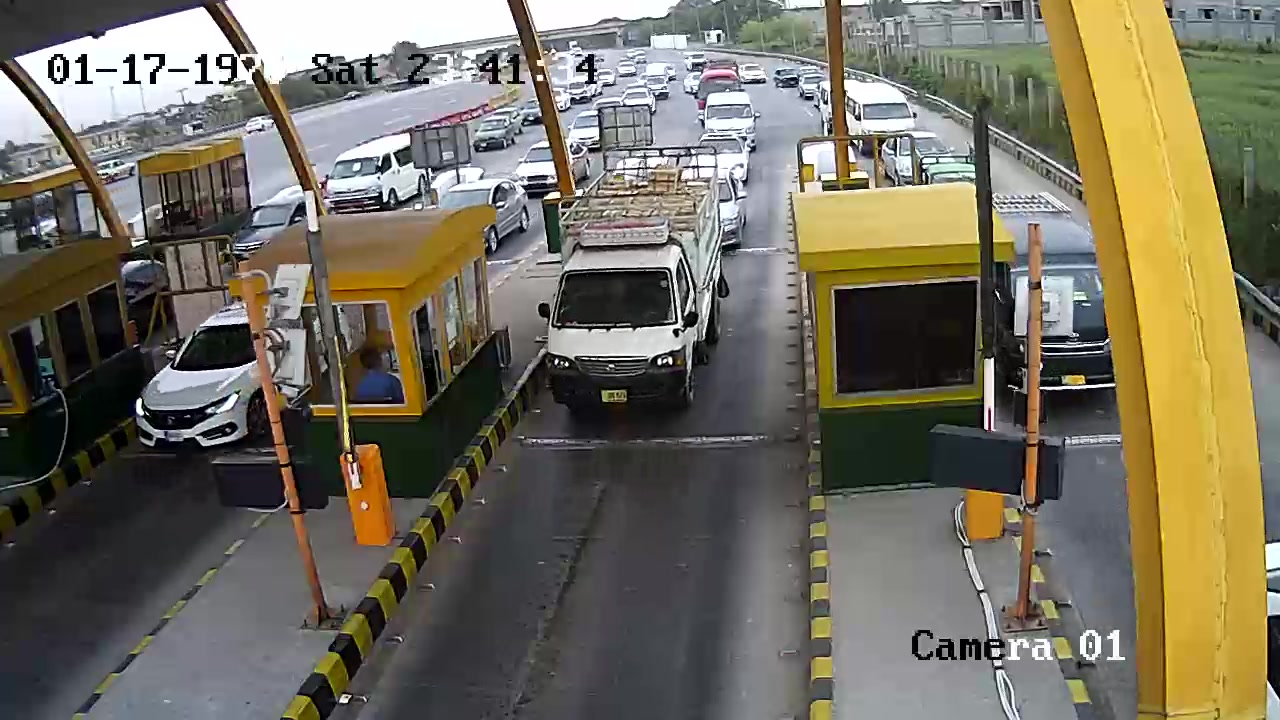F2: (536, 144, 725, 427)
